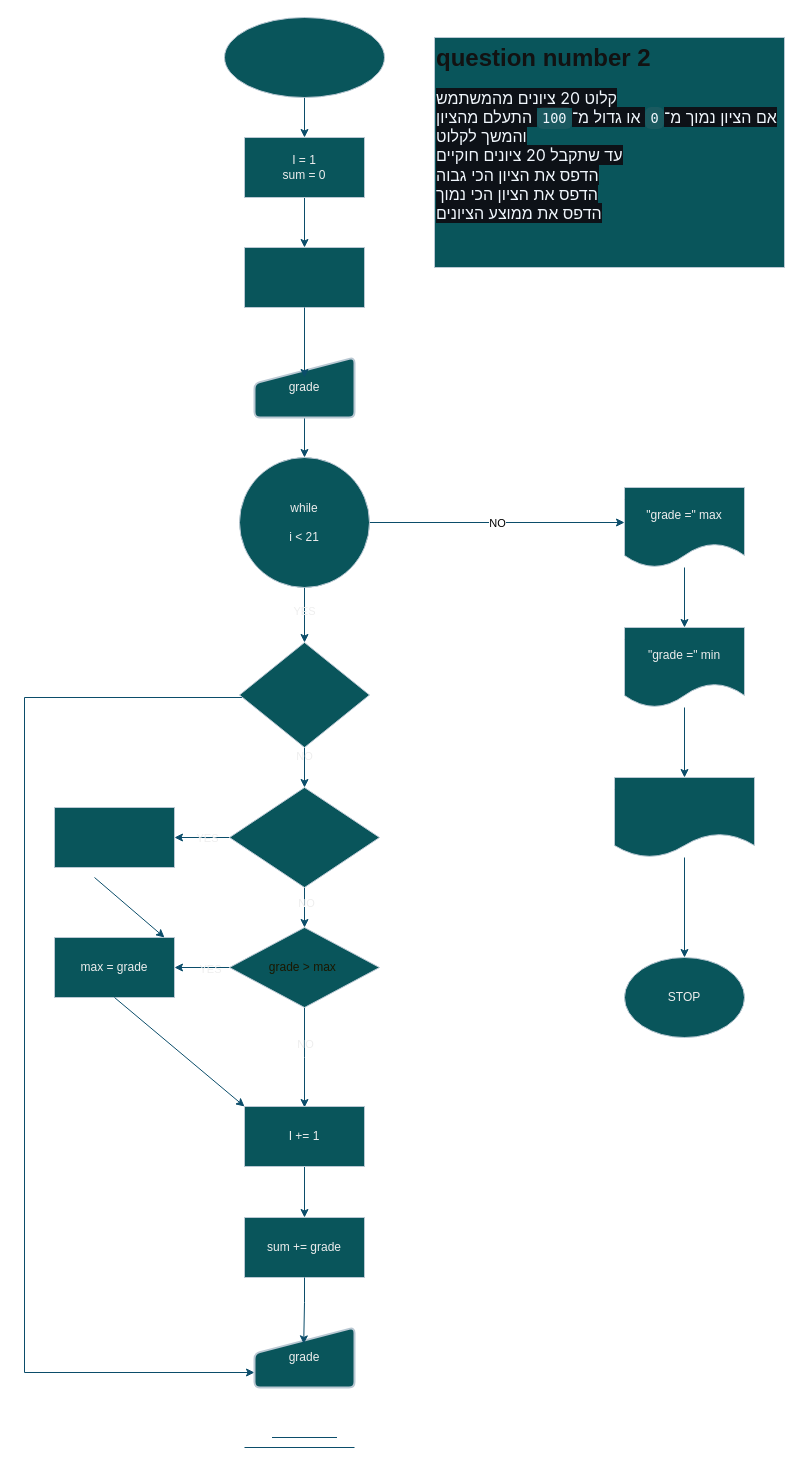
Some shapes in this 802 by 1466 pixel diagram are drawn without their labels. Each missing label, with the centre of its shape:
"the avg is=", sum / 20: the point at 684,817
grade < min: the point at 304,837
grade > 100 or grade < 0: the point at 304,695
min = 0 max = 0: the point at 304,277
min = grade: the point at 114,837
START: the point at 304,57
